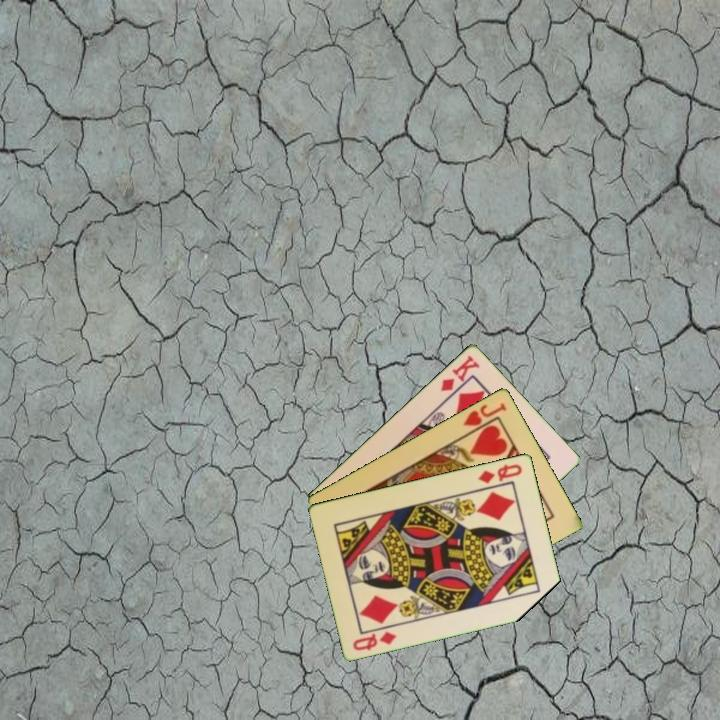Jh: (459, 399, 510, 429)
Kd: (437, 351, 483, 394)
Qd: (474, 460, 525, 486), (349, 627, 400, 653)
